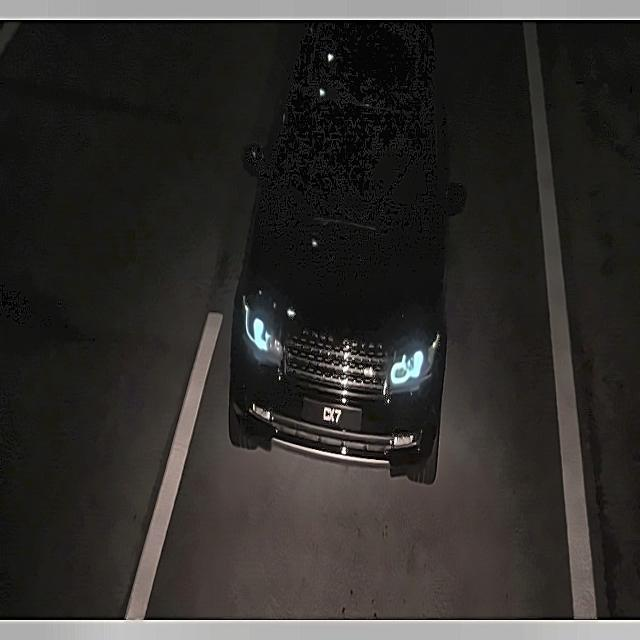car: (300, 390, 368, 442)
